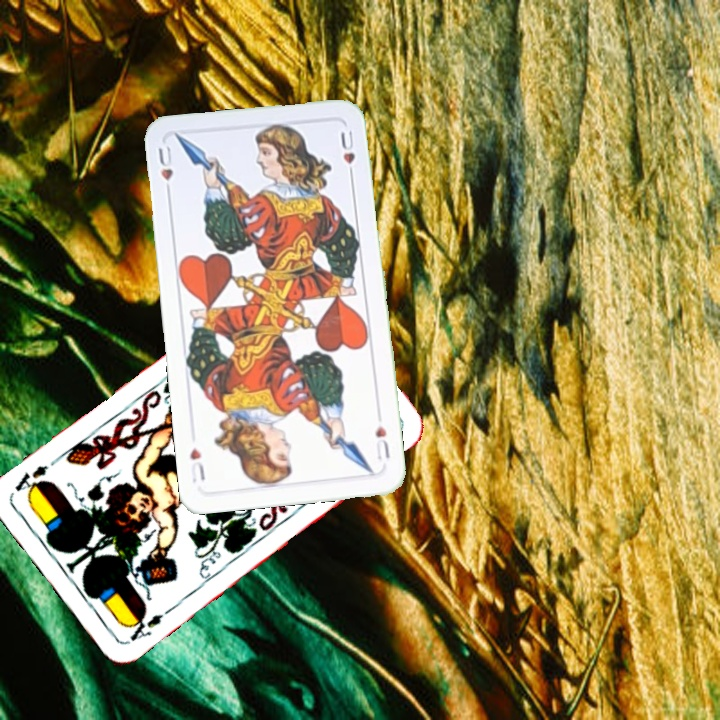EA: (122, 608, 167, 646)
HU: (154, 142, 177, 200), (371, 421, 392, 463)
